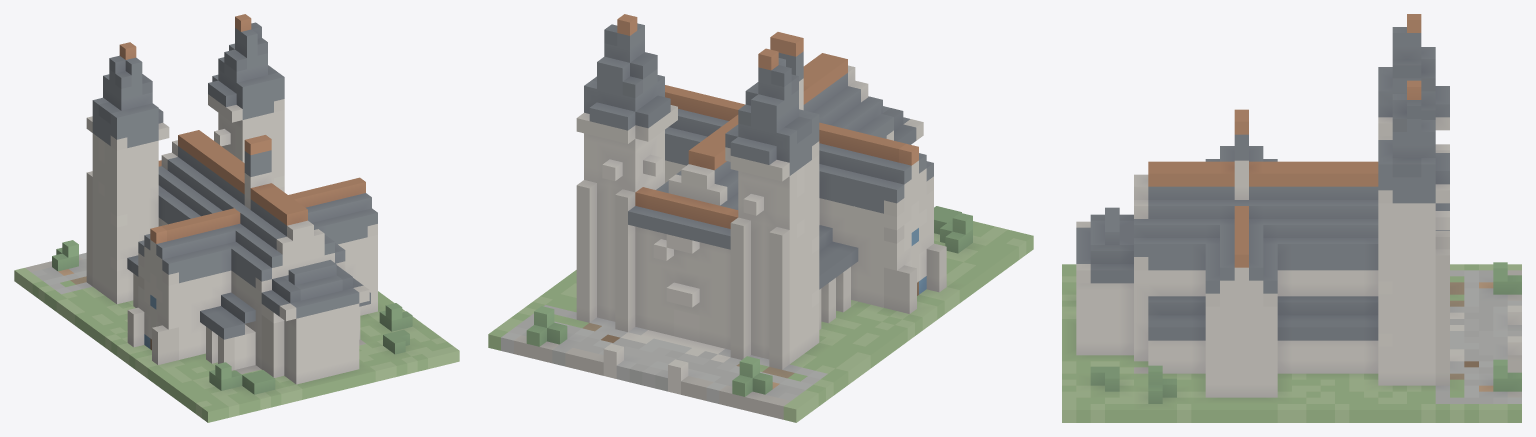
Rendered from cathedral.lite.glb.
3 views of the same model, side by side, from view 1: azimuth 30°, elevation 25°; view 2: azimuth 150°, elevation 25°; view 3: azimuth 270°, elevation 25° (orthographic). The views are drawn at different scales.
Parts seen in each view (by area): view 1: cathedral; view 2: cathedral; view 3: cathedral.
Part boxes in pixels (box(x1,y1,x2,y2)): cathedral: box(14, 14, 459, 422); cathedral: box(488, 14, 1033, 422); cathedral: box(1062, 14, 1521, 422).
Bounding box in the file's own units: 12 × 11.5 × 16.
